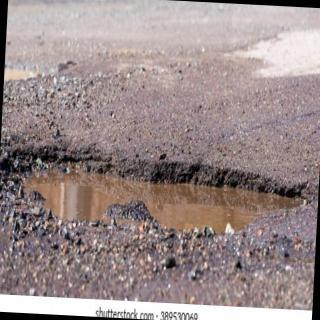pothole: (0, 150, 305, 233)
